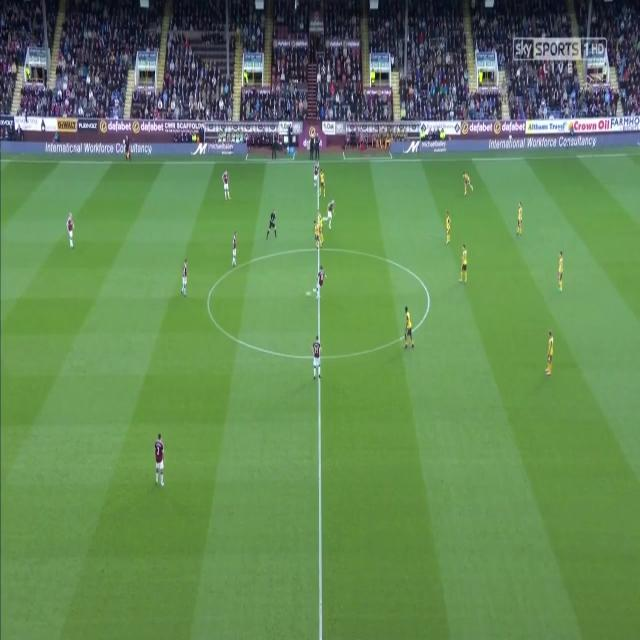Ball: (304, 286, 312, 304)
Player: (151, 431, 169, 490), (309, 333, 325, 383), (401, 304, 416, 355), (544, 327, 555, 381), (458, 241, 470, 288), (313, 264, 327, 300), (460, 167, 475, 200), (65, 209, 76, 253), (554, 250, 564, 296), (324, 196, 336, 231), (180, 257, 190, 298), (514, 197, 524, 238), (230, 230, 240, 270), (220, 170, 232, 203), (444, 208, 453, 248), (316, 210, 324, 247), (311, 160, 320, 192), (319, 167, 328, 197), (312, 220, 321, 249)
Referee: (266, 207, 277, 243), (124, 135, 132, 163)
